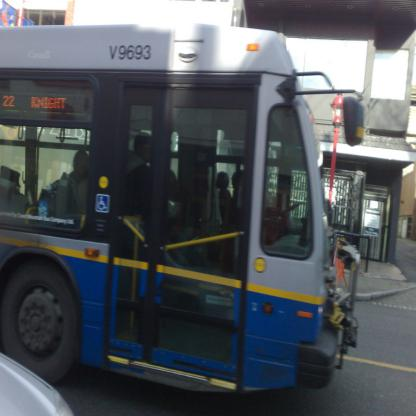Bus: (0, 24, 343, 394)
